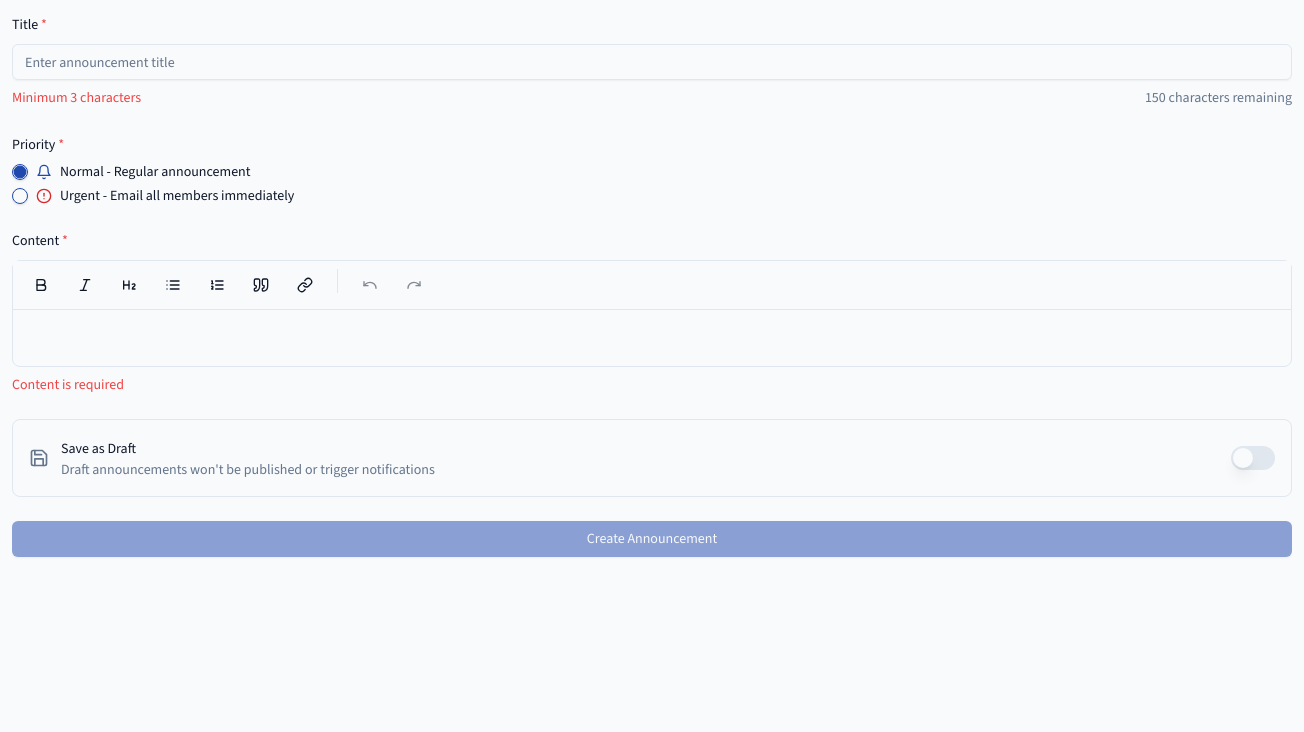
Scenario: AnnouncementForm › Validation - Title › should accept valid title (3-150 characters)
Type "Valid Title" into the field labelled "Title *" at x=652, y=62, box top-left (12, 44), bottom-right (1292, 80)
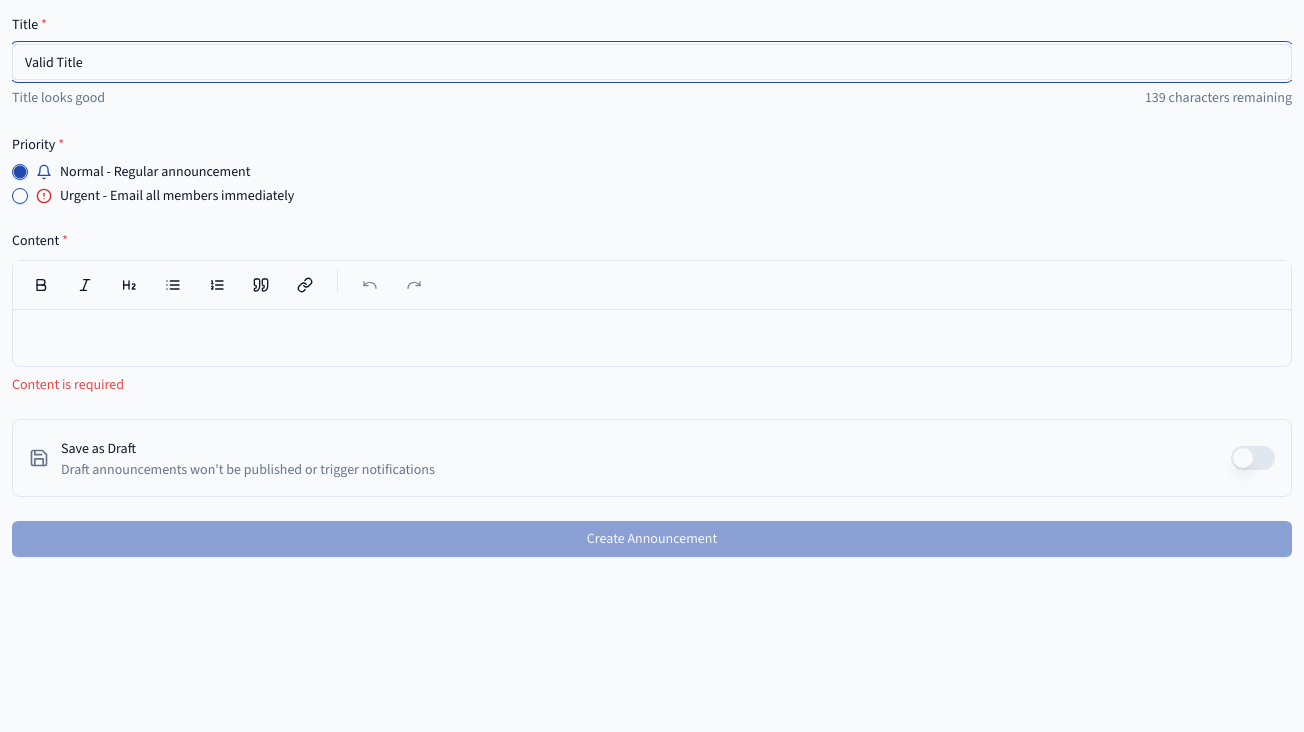
Check: the text "Title looks good" is shown, box top-left (12, 88), bottom-right (105, 108)
